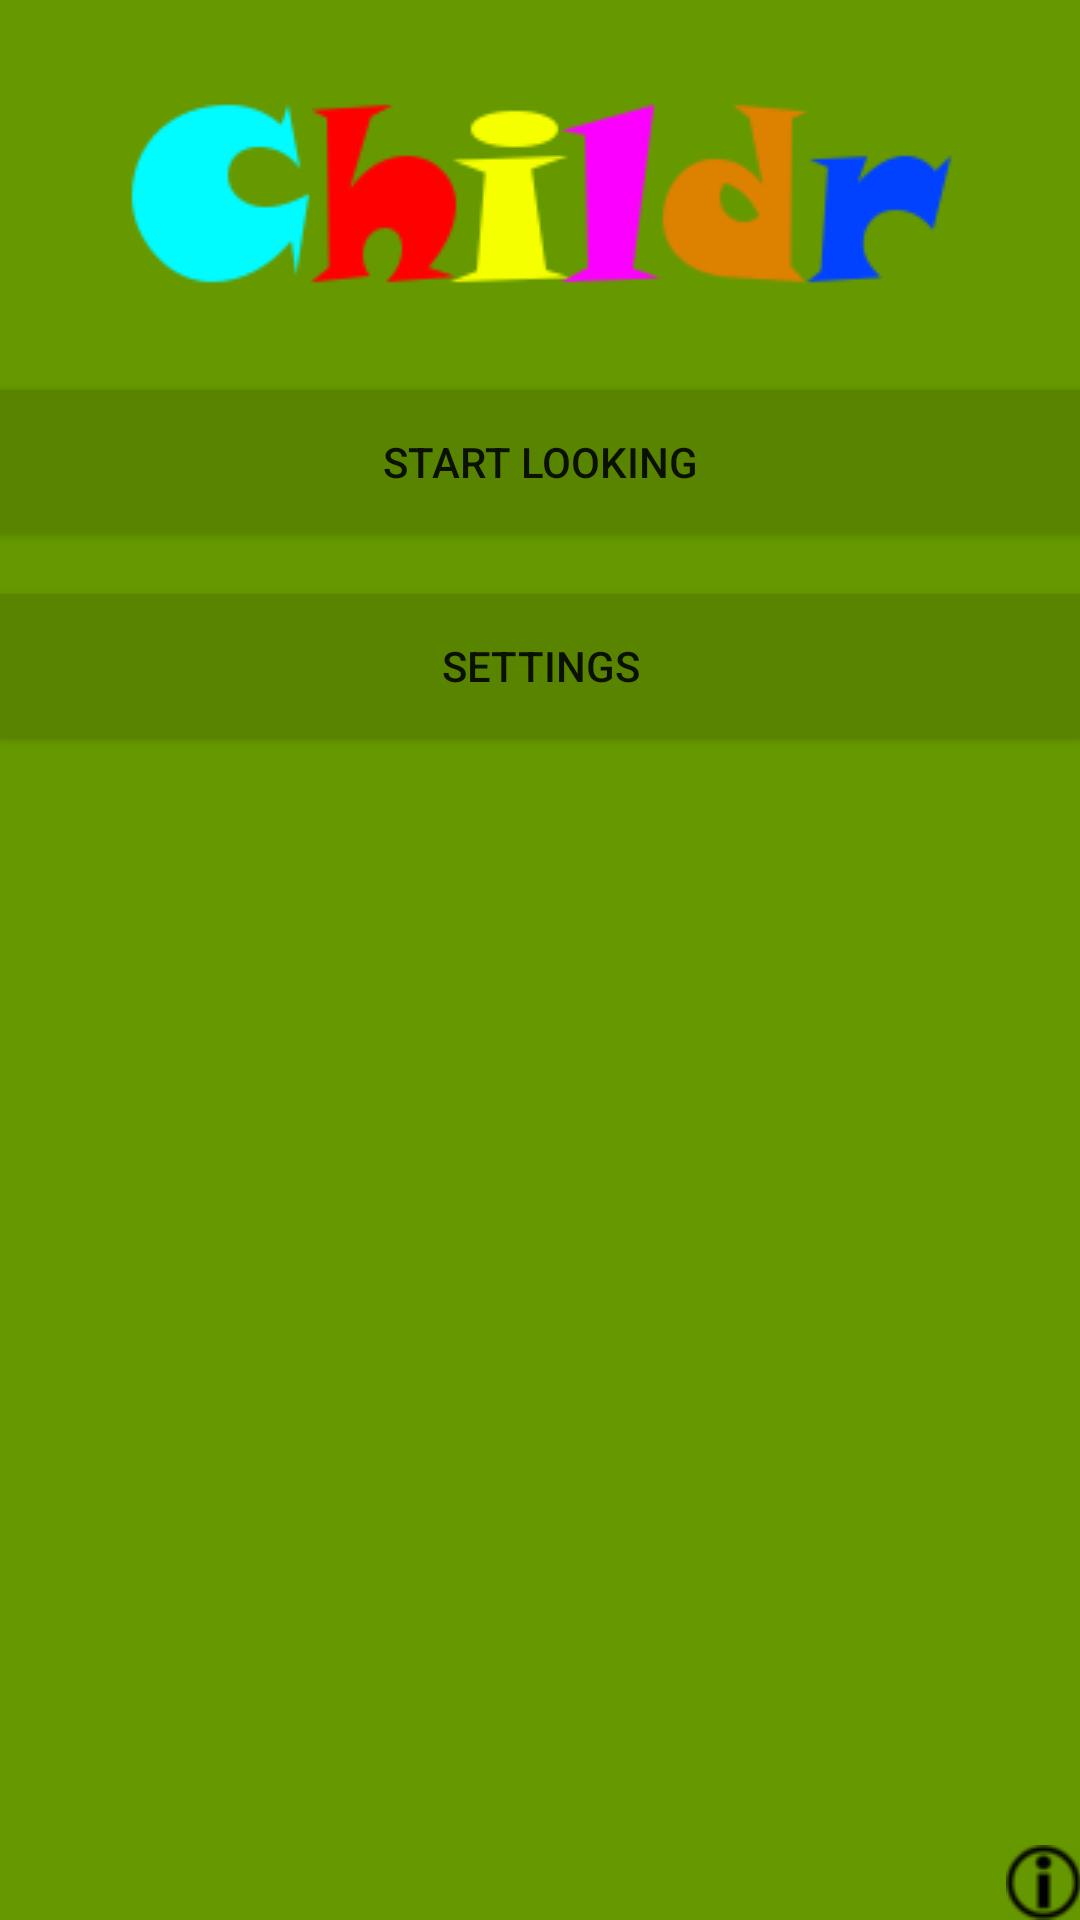

Locate icon controls on the screen. Image size 1080×1920, boxes as {"left": x1, "top": y1, "right": x2, "bottom": y2}.
info: {"left": 1006, "top": 1845, "right": 1080, "bottom": 1920}
